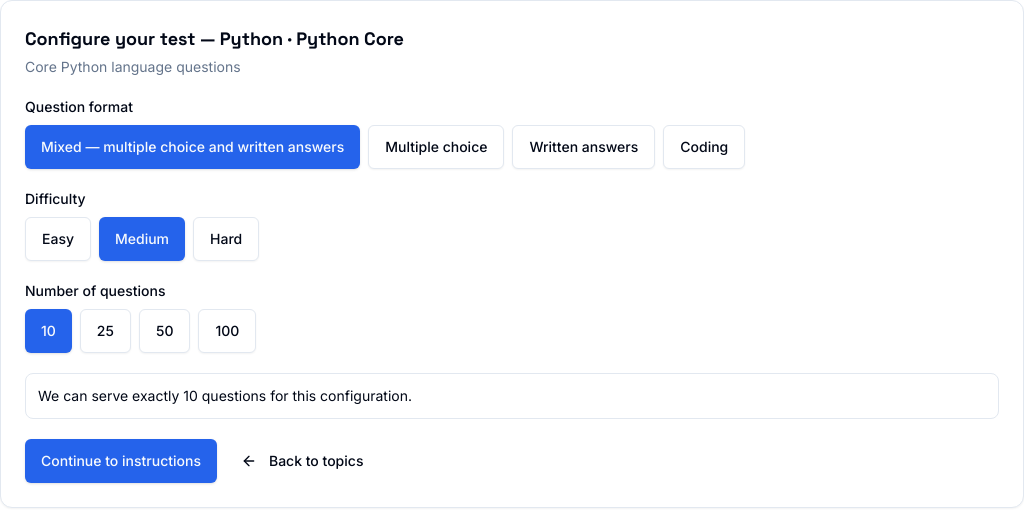
it: #1679 — P1: invented time figures + stale pre-flight race › P1-2: a pending pre-flight for a new count hides Continue until the new response lands
Expected: the button "Continue to instructions" is shown, top-left (25, 439), bottom-right (217, 483)
Click the button "25" at {"x": 105, "y": 331}, box top-left (80, 309), bottom-right (131, 353)
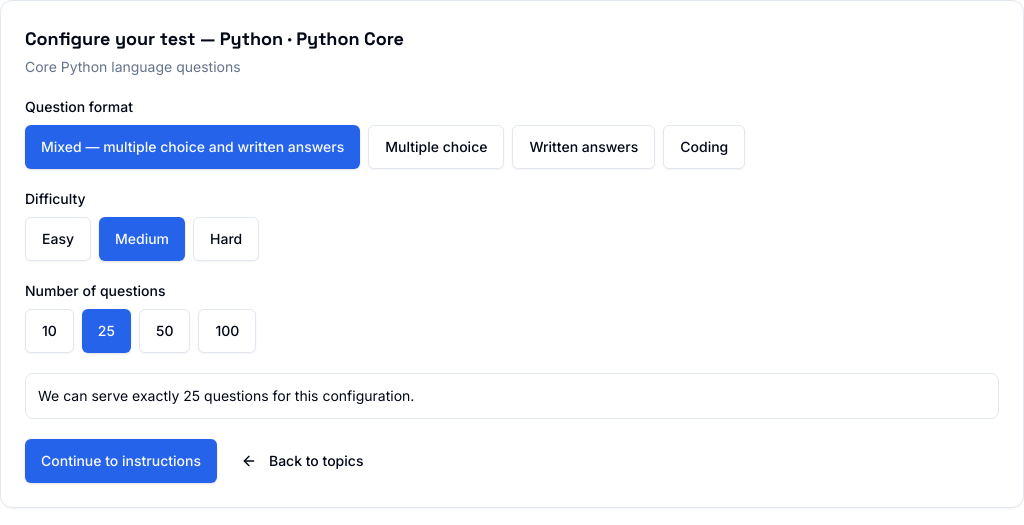
Expected: the button "Continue to instructions" is shown, top-left (25, 439), bottom-right (217, 483)
Result: the text "We can serve exactly 25 questions for this configuration." is shown at top-left (38, 387), bottom-right (414, 404)
